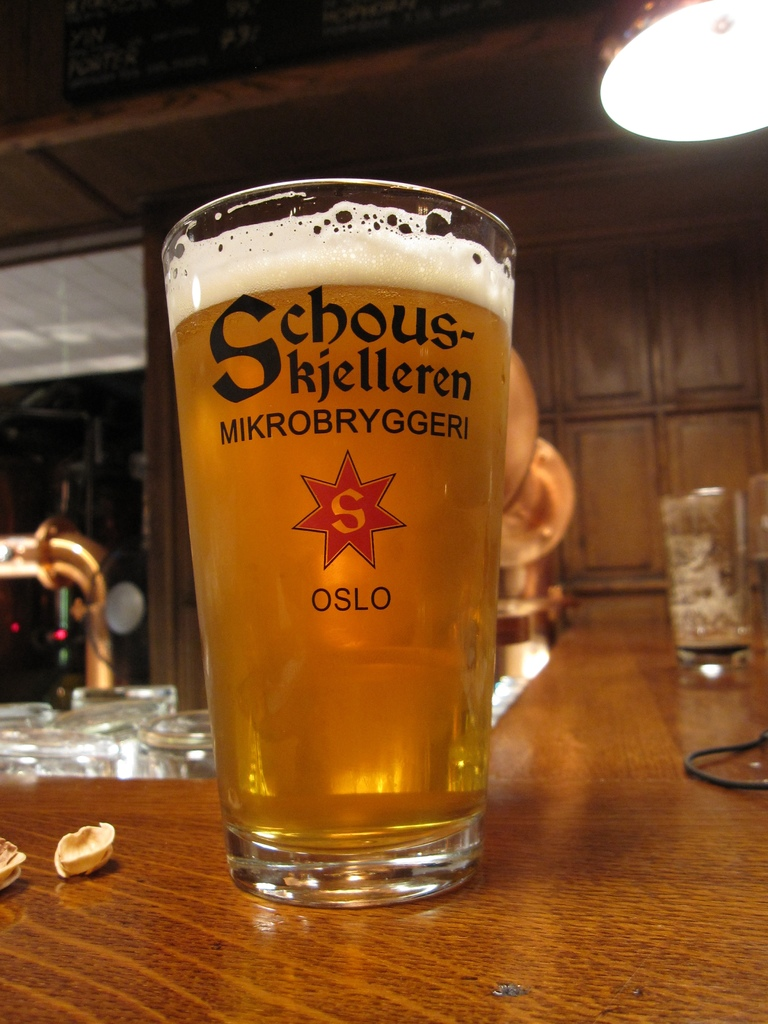Beer: (163, 210, 505, 857)
